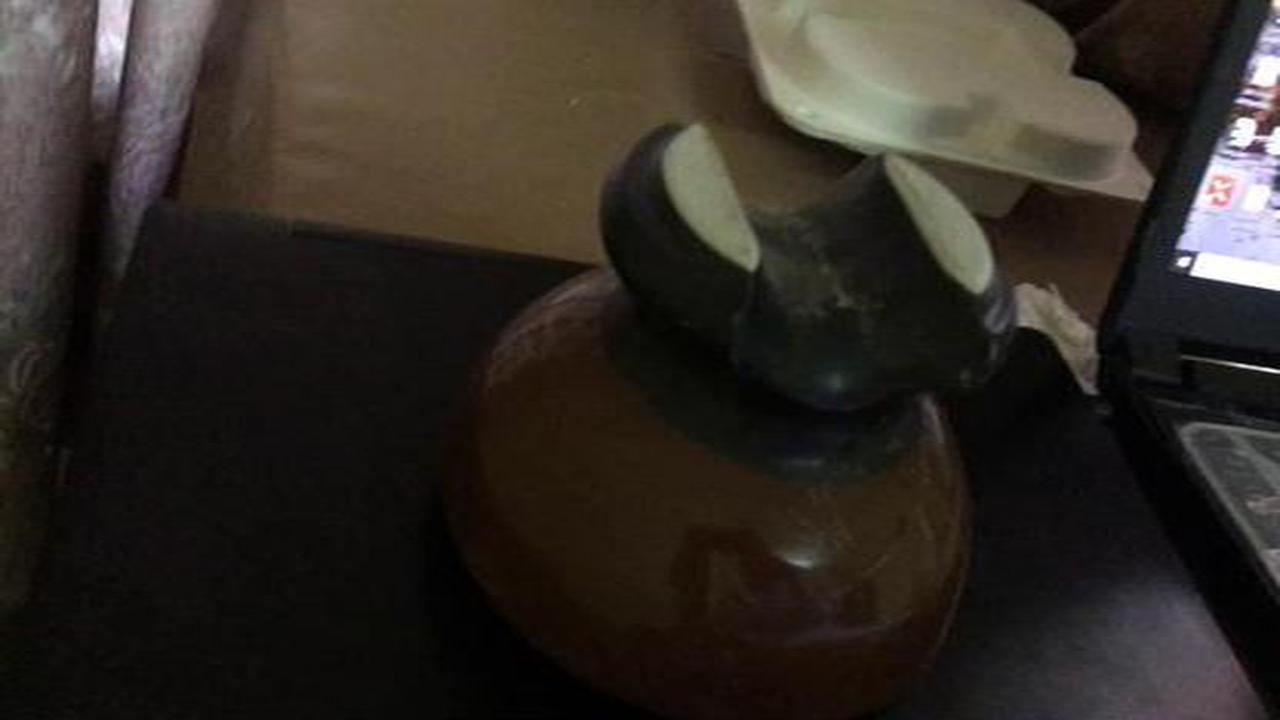insulator_pin: (419, 106, 1053, 714)
